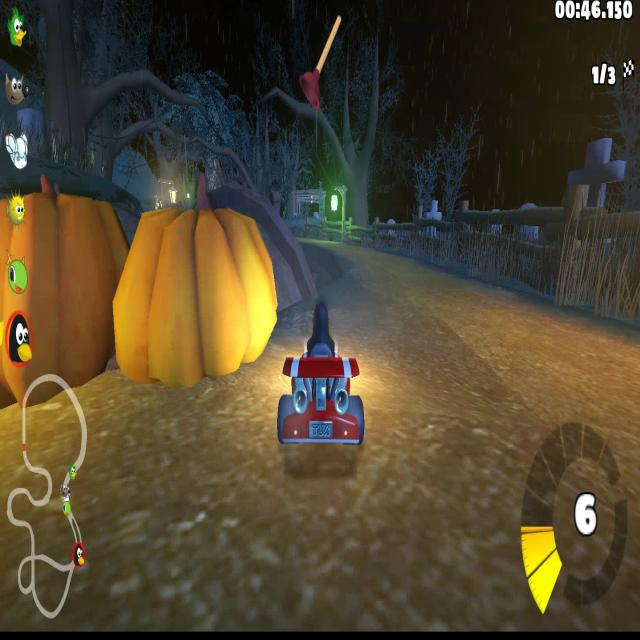player_kart: (274, 297, 376, 458)
